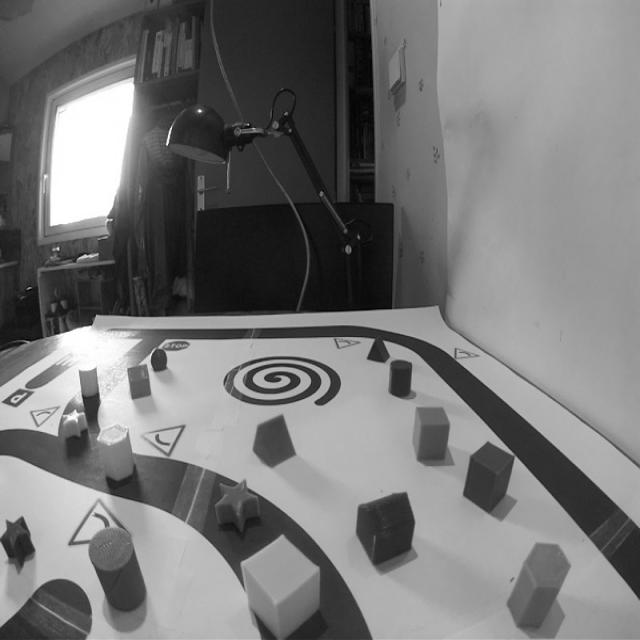ball: (150, 346, 170, 375)
cube: (238, 529, 326, 638), (463, 438, 518, 516), (412, 404, 452, 466)
cylinder: (87, 525, 150, 615), (386, 354, 415, 400), (76, 358, 102, 401)
hexagon: (504, 536, 575, 635), (94, 419, 138, 489)
home: (353, 486, 418, 571), (125, 362, 154, 402)
nest: (221, 347, 345, 416)
star: (211, 477, 265, 535), (0, 513, 37, 573), (60, 410, 89, 444)
triangle: (252, 411, 300, 473), (367, 330, 391, 364)
